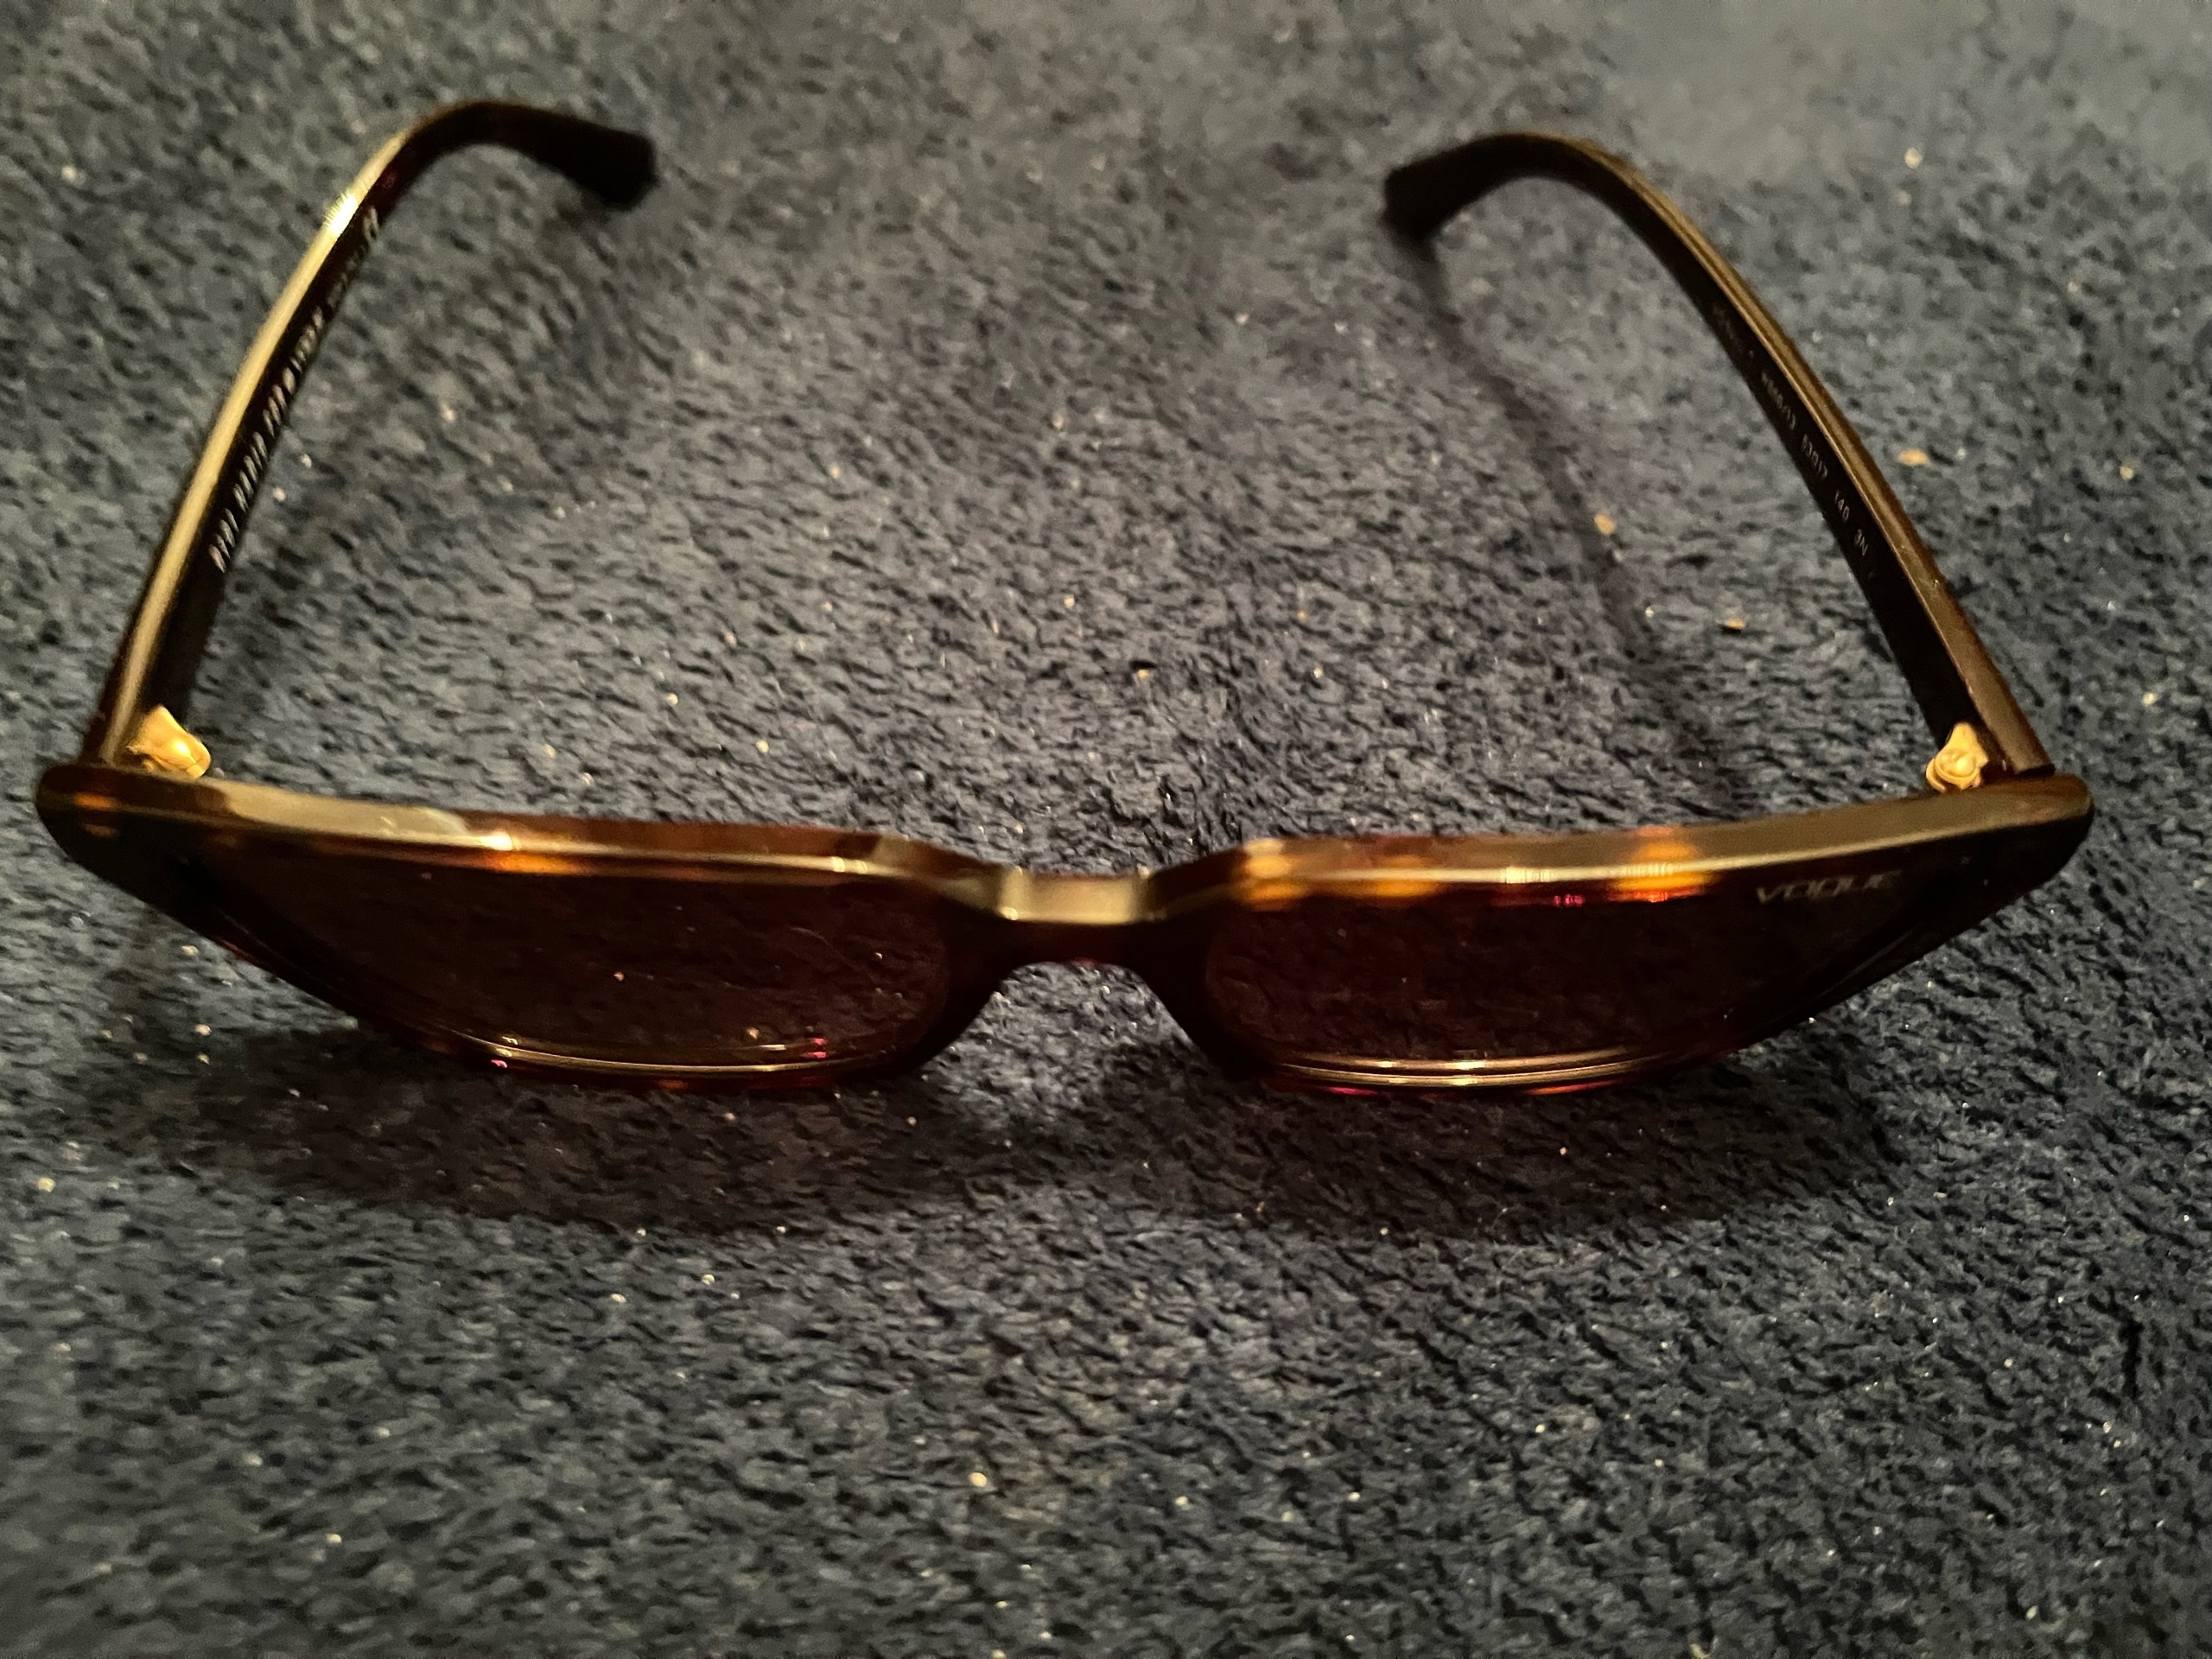glasses: (38, 103, 2090, 1091)
